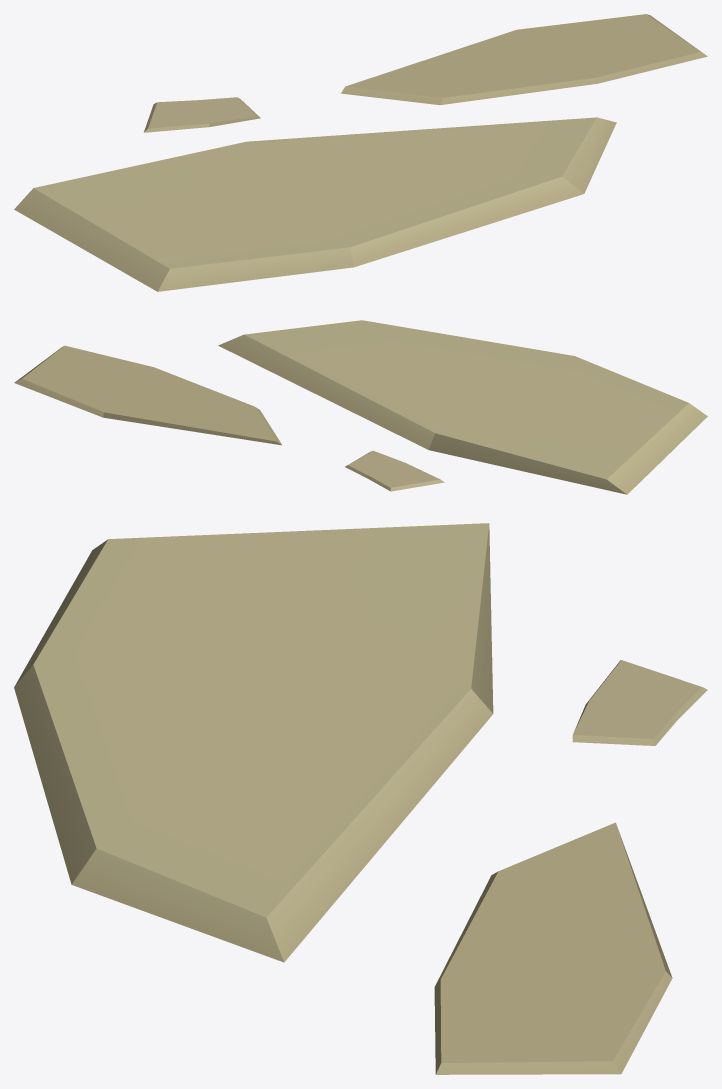
The model's file is Rock_Small_1.fbx.
The picture shows the model from 3 angles, top to bottom: view 1: azimuth 30°, elevation 25°; view 2: azimuth 150°, elevation 25°; view 3: azimuth 270°, elevation 25°; orthographic projection. The views are drawn at different scales.
Parts seen in each view (by area): view 1: rocks_small_1; view 2: rocks_small_1; view 3: rocks_small_1.
Part boxes in pixels (x1,y1,x2,y2): rocks_small_1: [14, 14, 707, 291]; rocks_small_1: [14, 320, 707, 494]; rocks_small_1: [14, 523, 707, 1074].
Size of the model in its own units: 312 by 7.49 by 169.
Materials: 1 (1 with a texture image).
